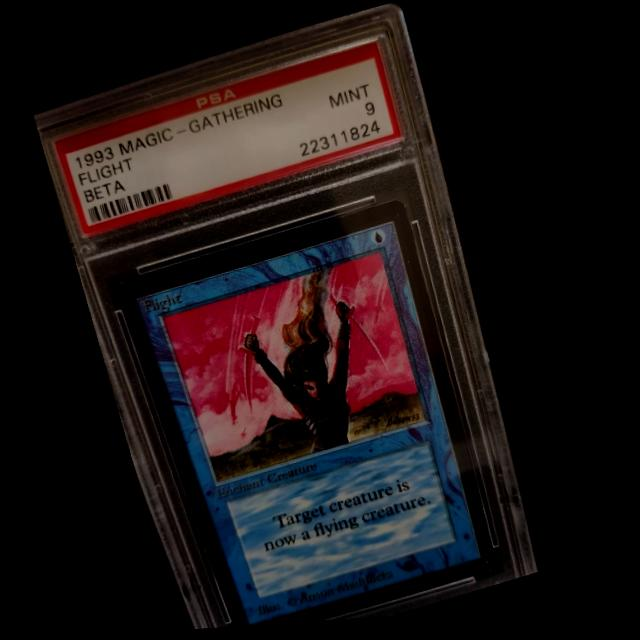card: (109, 202, 492, 630)
psa_label_old: (50, 44, 400, 237)
psa_slab: (31, 3, 533, 632)
